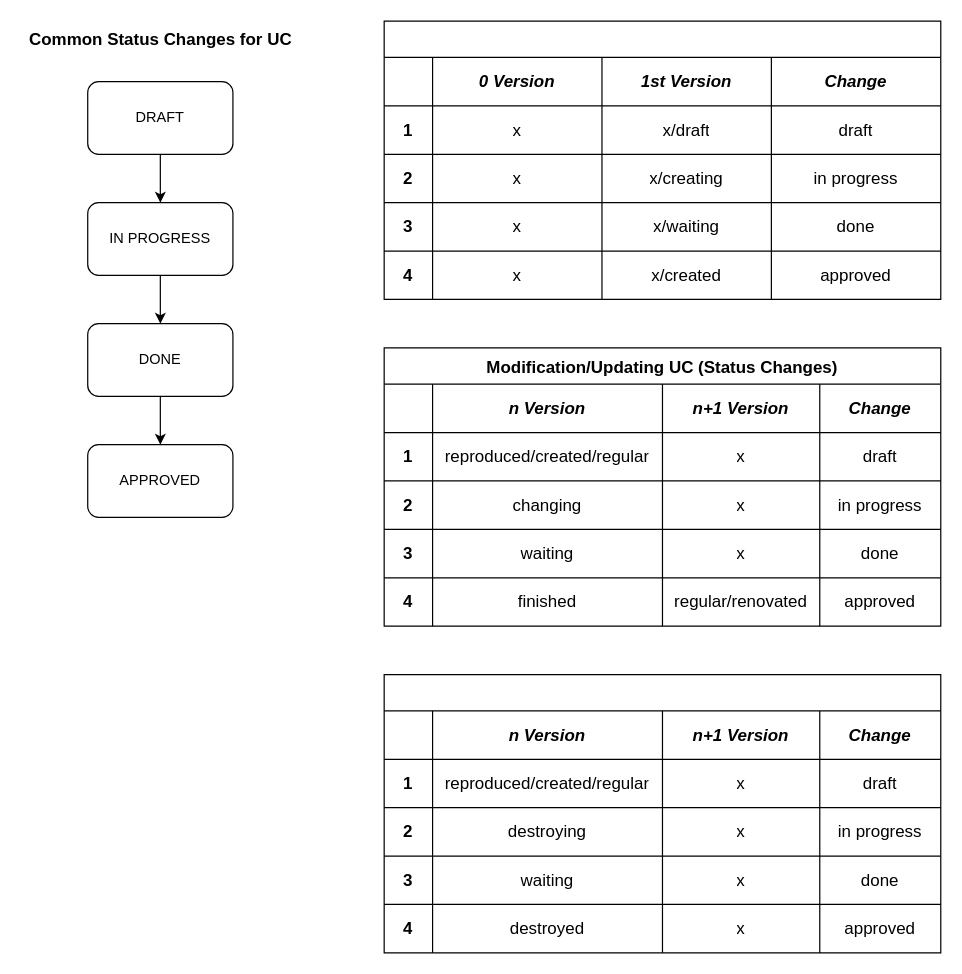
The diagram is 962 pixels wide and 974 high, and some of its shapes have lost their labels. Each missing label, with the box of its shape:
Creation UC (Status Changes): (383, 20, 941, 299)
Destroying UC (Status Changes): (383, 673, 941, 953)
